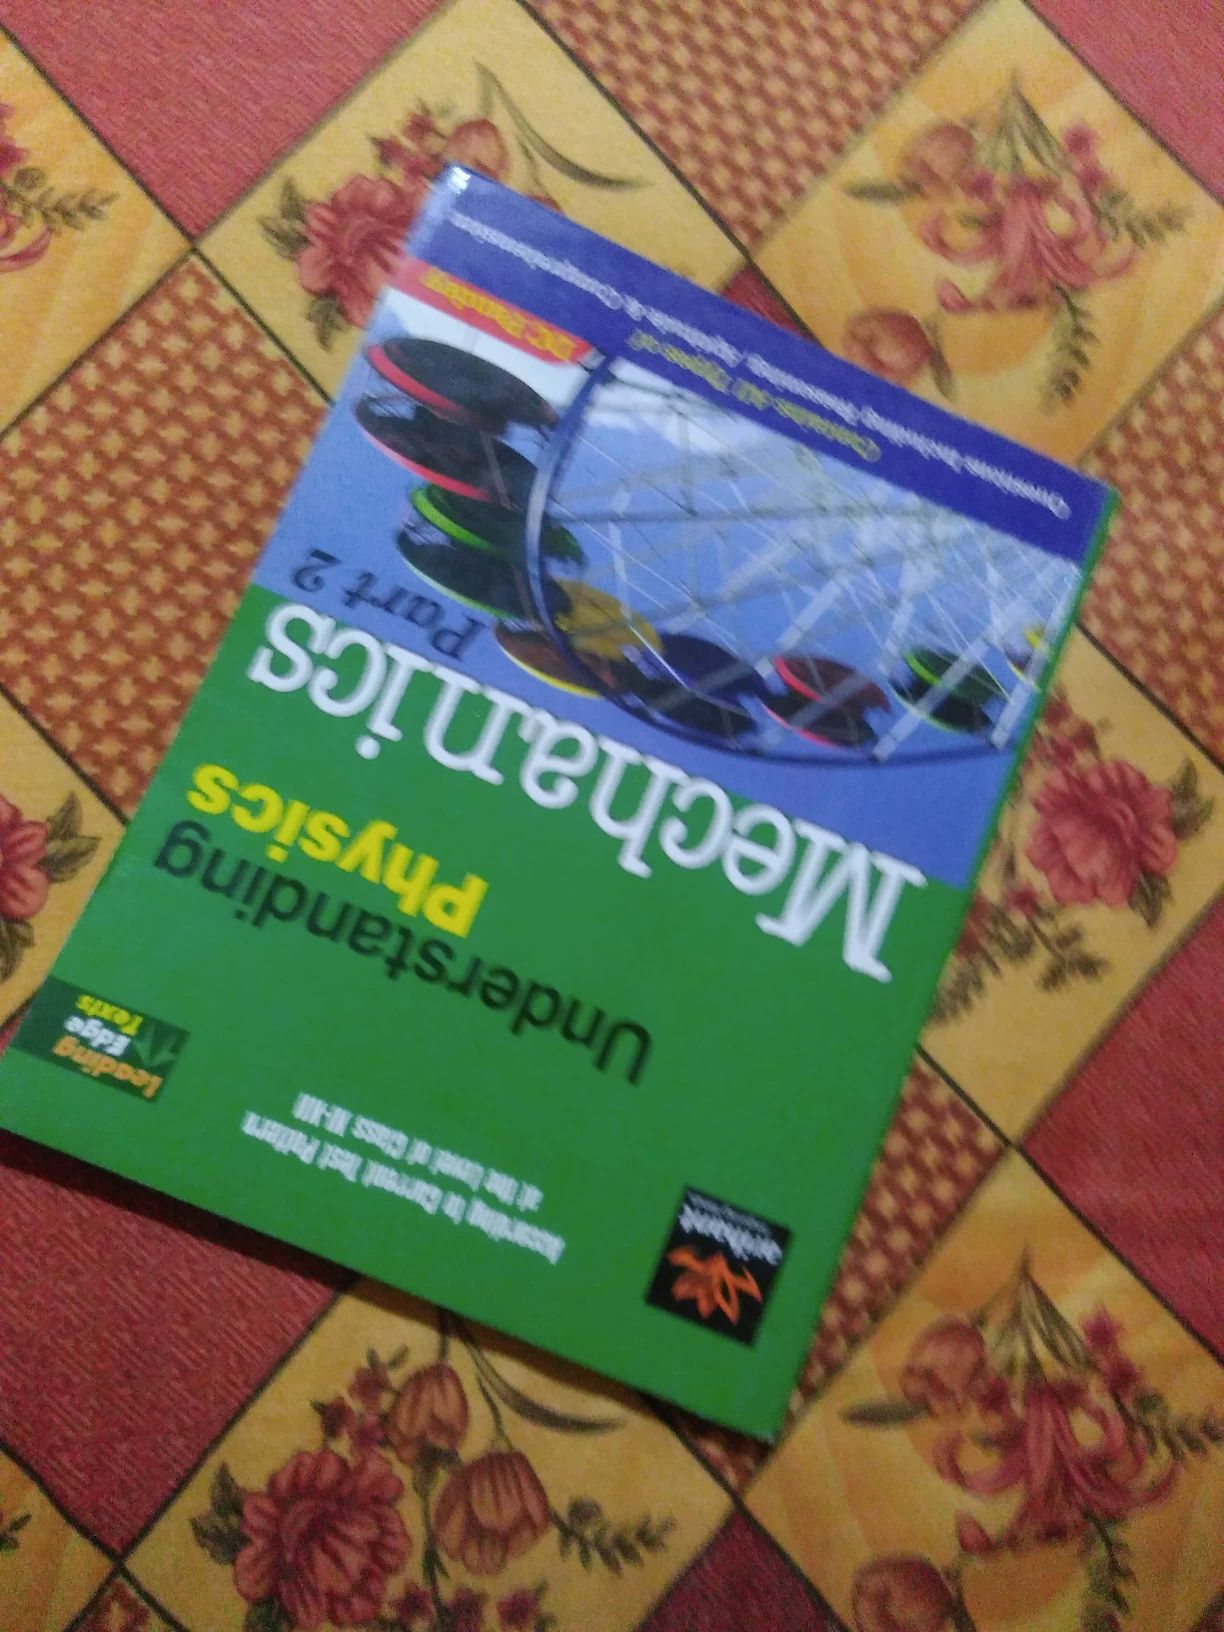mechanics: (71, 137, 1131, 1444)
